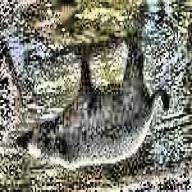boar: (25, 42, 177, 177)
